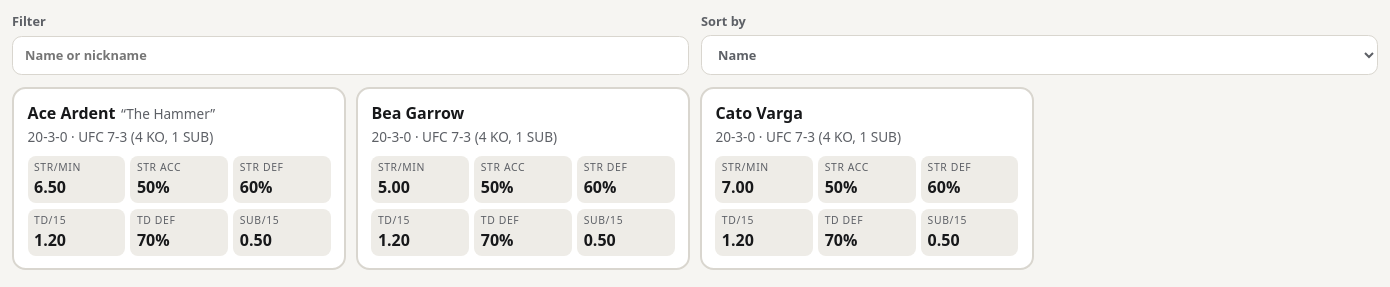
Test: says when nothing matches
Type "zzz" into the search field labelled "Filter" at (350, 55), box [12,36,689,75]
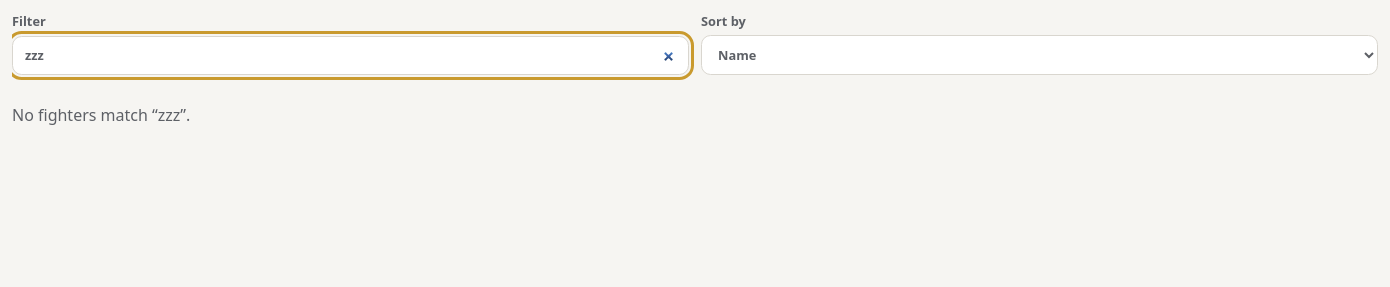
Now the text "No fighters match “zzz”." is shown, box [12,104,190,126]
